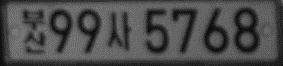5: (144, 7, 169, 54)
6: (202, 7, 229, 54)
7: (171, 7, 198, 52)
8: (232, 6, 261, 53)
9: (48, 8, 74, 53), (76, 8, 102, 53)
부산_V: (21, 7, 47, 54)
사: (106, 10, 131, 50)
